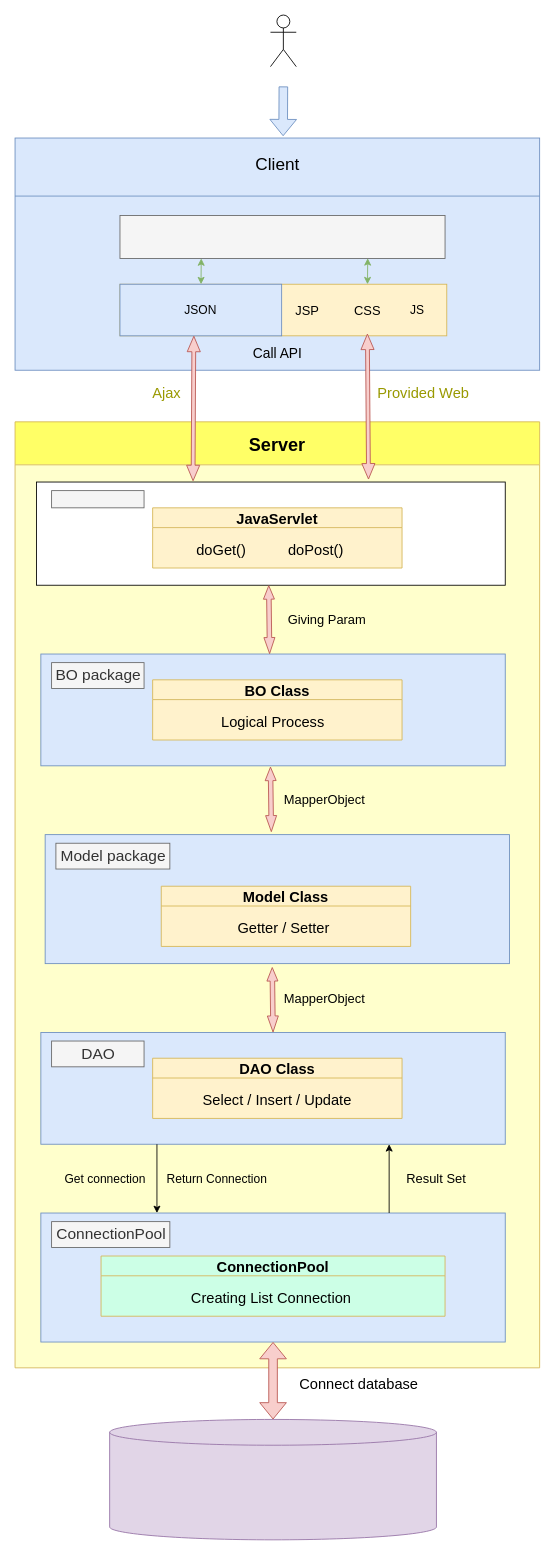
Some shapes in this 556 by 1555 pixel diagram are drawn without their labels. Each missing label, with the centre of its shape:
Browser: the point at 282,236
Controller: the point at 97,499
Database: the point at 272,1479
USER: the point at 283,40
